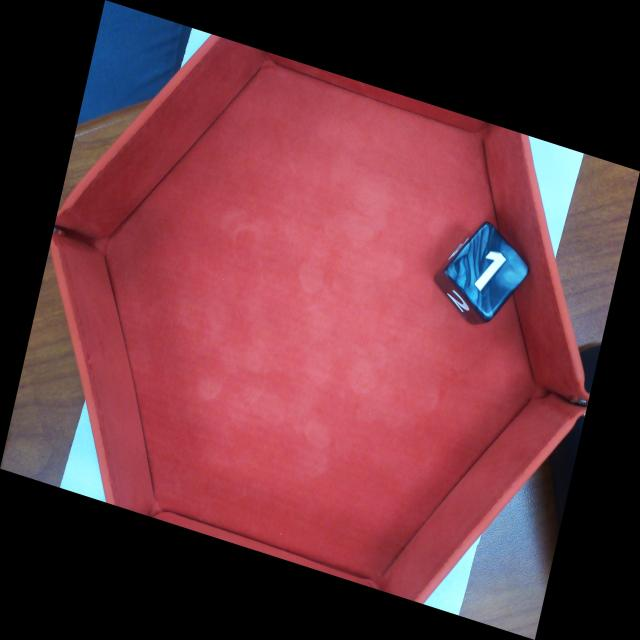dice: (447, 224, 528, 317)
